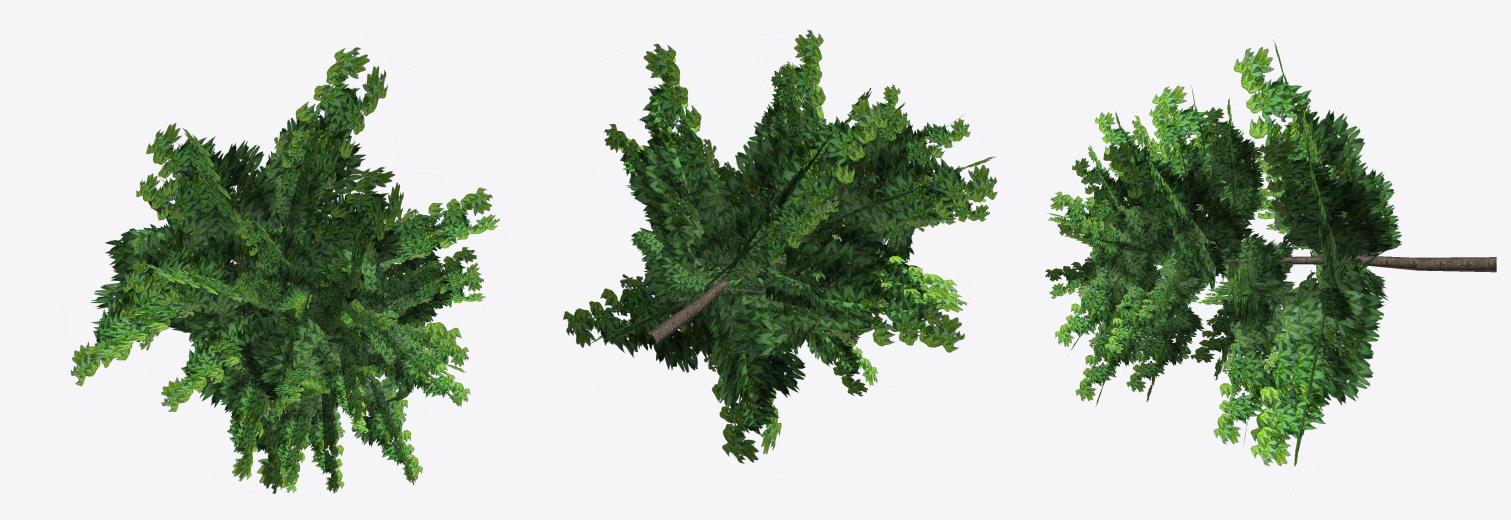
The model's file is MuMianShu.gltf.
The picture shows the model from 3 angles, left to right: view 1: azimuth 30°, elevation 25°; view 2: azimuth 150°, elevation 25°; view 3: azimuth 270°, elevation 25°; orthographic projection. The views are drawn at different scales.
Parts seen in each view (by area): view 1: Group_MatrixTransform_MuMianShu_Geometry_0, Group_MatrixTransform_MuMianShu_Geometry_1, Group_MatrixTransform_MuMianShu_Geometry_2; view 2: Group_MatrixTransform_MuMianShu_Geometry_0, Group_MatrixTransform_MuMianShu_Geometry_1, Group_MatrixTransform_MuMianShu_Geometry_3; view 3: Group_MatrixTransform_MuMianShu_Geometry_0, Group_MatrixTransform_MuMianShu_Geometry_1, Group_MatrixTransform_MuMianShu_Geometry_3, Group_MatrixTransform_MuMianShu_Geometry_2.
Part boxes in pixels (<box>): Group_MatrixTransform_MuMianShu_Geometry_0: <box>70,47,499,494</box>; Group_MatrixTransform_MuMianShu_Geometry_1: <box>105,190,399,403</box>; Group_MatrixTransform_MuMianShu_Geometry_2: <box>270,283,415,403</box>; Group_MatrixTransform_MuMianShu_Geometry_0: <box>563,30,997,463</box>; Group_MatrixTransform_MuMianShu_Geometry_1: <box>630,174,922,358</box>; Group_MatrixTransform_MuMianShu_Geometry_3: <box>646,266,765,346</box>; Group_MatrixTransform_MuMianShu_Geometry_0: <box>1045,40,1401,466</box>; Group_MatrixTransform_MuMianShu_Geometry_1: <box>1089,175,1391,340</box>; Group_MatrixTransform_MuMianShu_Geometry_3: <box>1222,255,1496,272</box>; Group_MatrixTransform_MuMianShu_Geometry_2: <box>1101,178,1177,347</box>.
Size of the model in its own units: 8.87 by 8.67 by 8.57.
4 materials, 4 textured.
